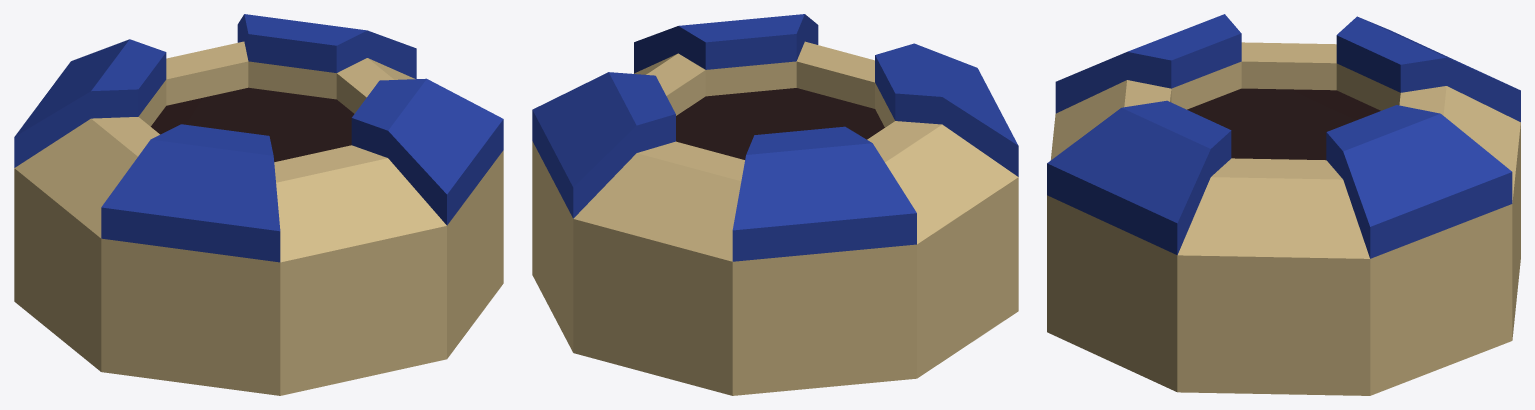
The model's file is Ball_Spawn_Blue.fbx.
3 renders of one model, left to right at view 1: azimuth 30°, elevation 25°; view 2: azimuth 150°, elevation 25°; view 3: azimuth 270°, elevation 25°, orthographic. The views are drawn at different scales.
Visible parts, largest first — view 1: Ball_Spawn_Blue; view 2: Ball_Spawn_Blue; view 3: Ball_Spawn_Blue.
Boxes of the visible parts, box(x1,y1,x2,y2) form: Ball_Spawn_Blue: box(14, 14, 503, 395); Ball_Spawn_Blue: box(532, 14, 1018, 395); Ball_Spawn_Blue: box(1047, 14, 1520, 395).
Bounding box in the file's own units: 185 × 91.99 × 185.
